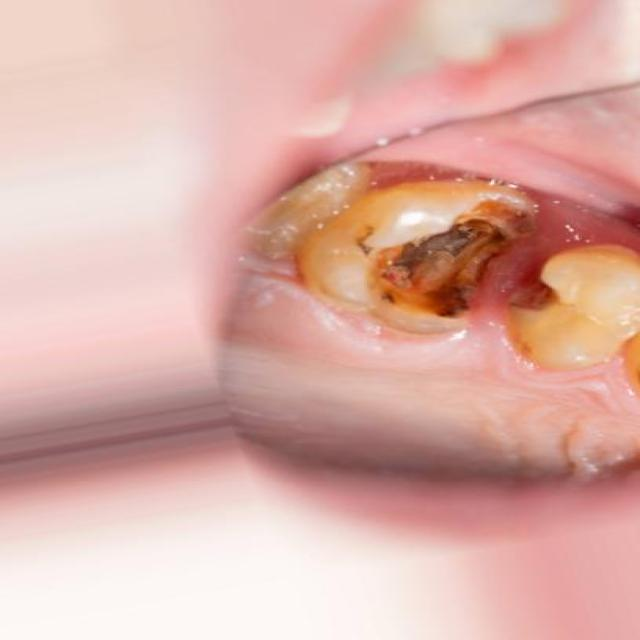caries: (296, 176, 528, 320)
